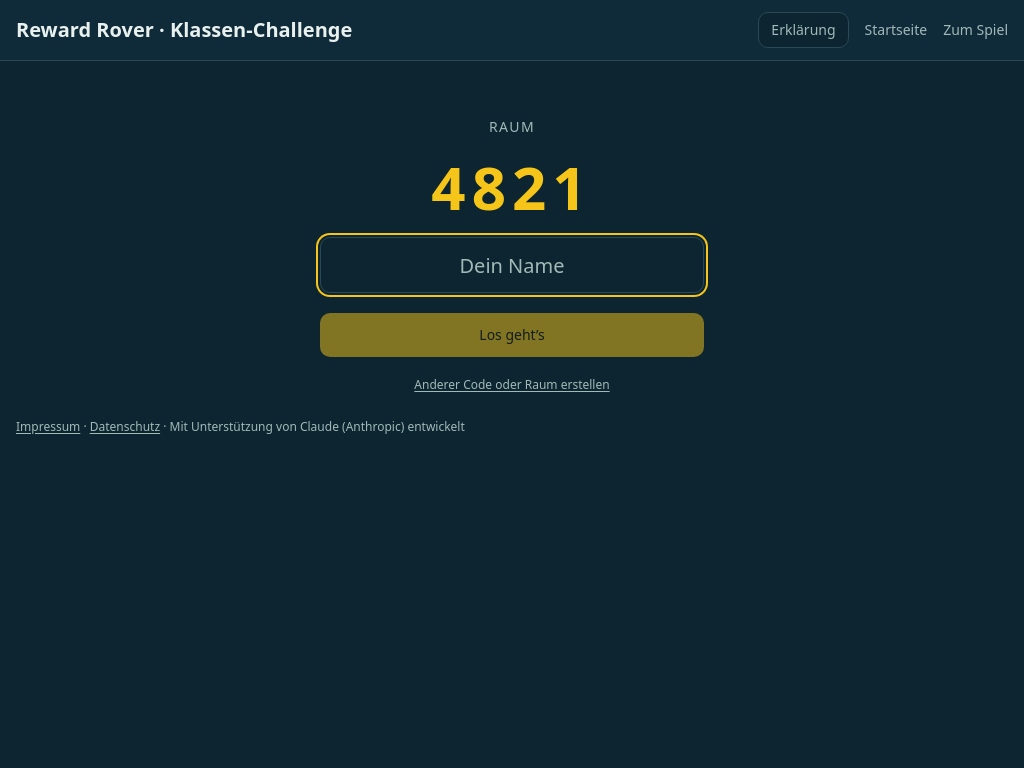
Scenario: classroom pages › QR link shows only a name field, no room creation
Check: the text "4821" is shown, box left=431, top=146, right=593, bottom=228
Check: the field with placeholder "Dein Name" is shown, box left=320, top=237, right=704, bottom=293
Step 1. Click the button "Anderer Code oder Raum erstellen" → (512, 385), box left=414, top=377, right=610, bottom=393
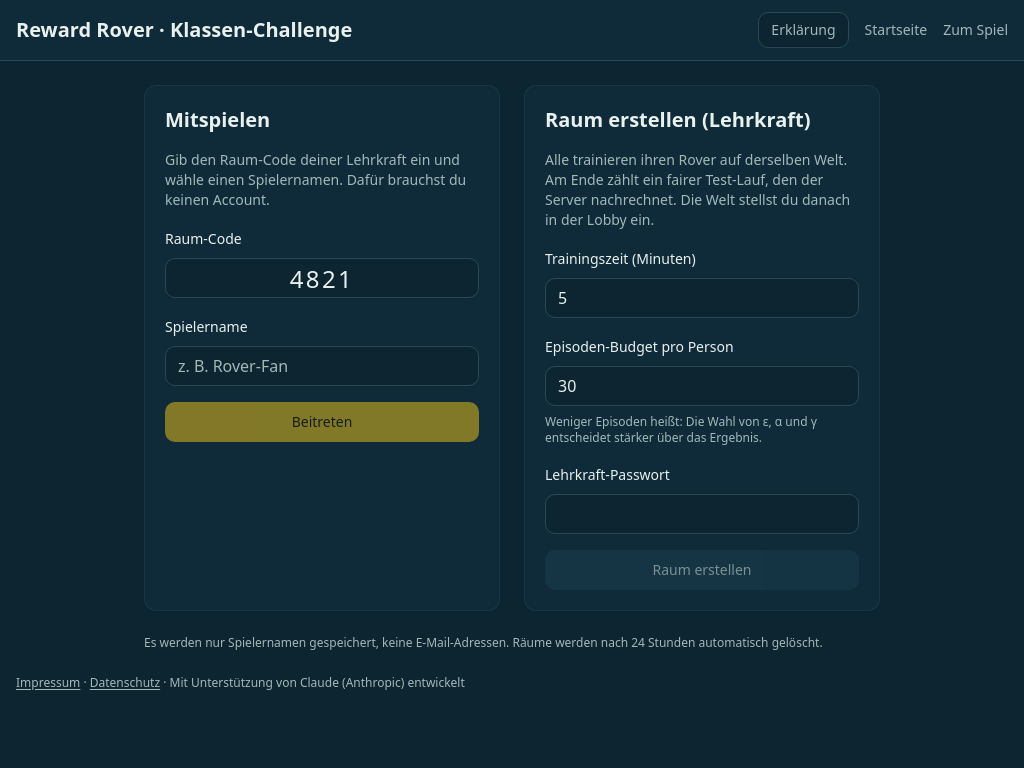
Check: the button "Raum erstellen" is shown, box left=545, top=550, right=859, bottom=590
